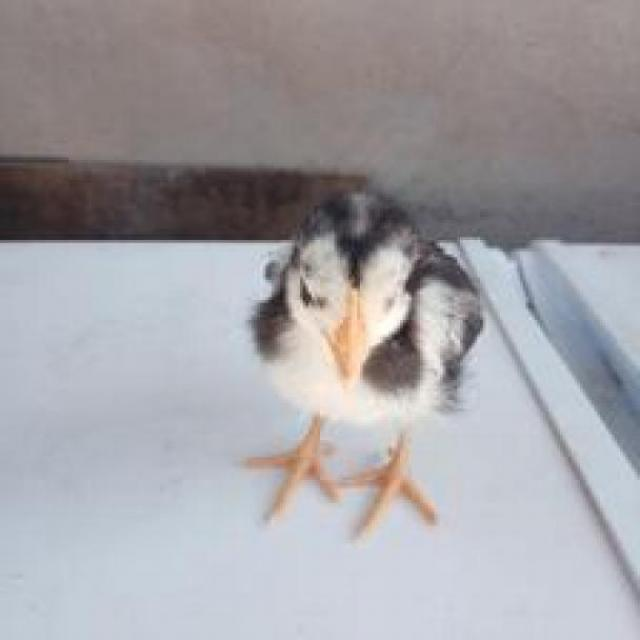Chicken: (235, 189, 496, 566)
